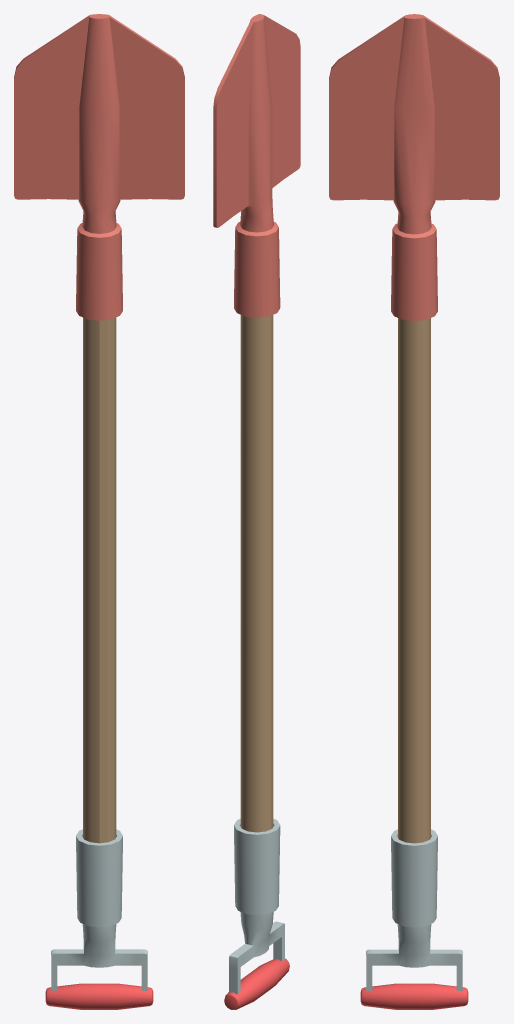
Rendered from SM_Shovel.FBX.
The picture shows the model from 3 angles, left to right: view 1: azimuth 90°, elevation 25°; view 2: azimuth 150°, elevation 25°; view 3: azimuth 270°, elevation 25°; orthographic projection.
Parts seen in each view (by area): view 1: Cylinder002; view 2: Cylinder002; view 3: Cylinder002.
Part boxes in pixels (bbox=[...]): Cylinder002: bbox=[14, 14, 184, 1009]; Cylinder002: bbox=[213, 14, 300, 1009]; Cylinder002: bbox=[329, 14, 499, 1009].
Bounding box in the file's own units: 5.67 × 131 × 20.5.
1 material, 1 textured.
